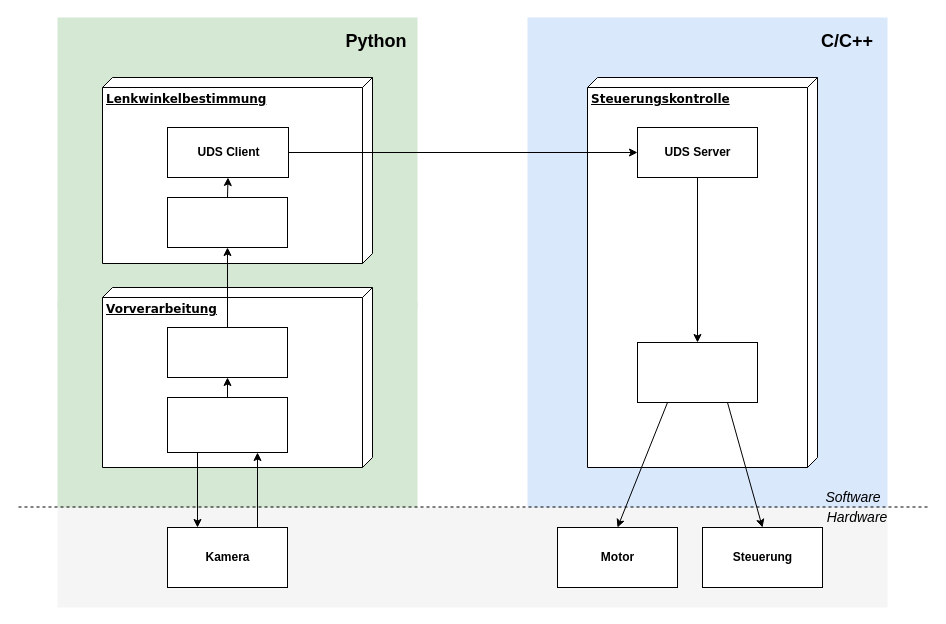
Some shapes in this 946 by 624 pixel diagram are drawn without their labels. Each missing label, with the centre of its shape:
CNN: (227,222)
Kameracontroller: (227,424)
Preprocessing: (227,352)
Steeringcontrol: (697,372)
